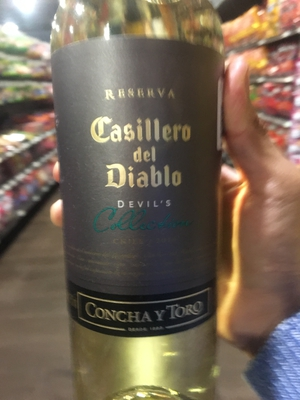casillero del diablo devils collection verde: (35, 4, 254, 384)
